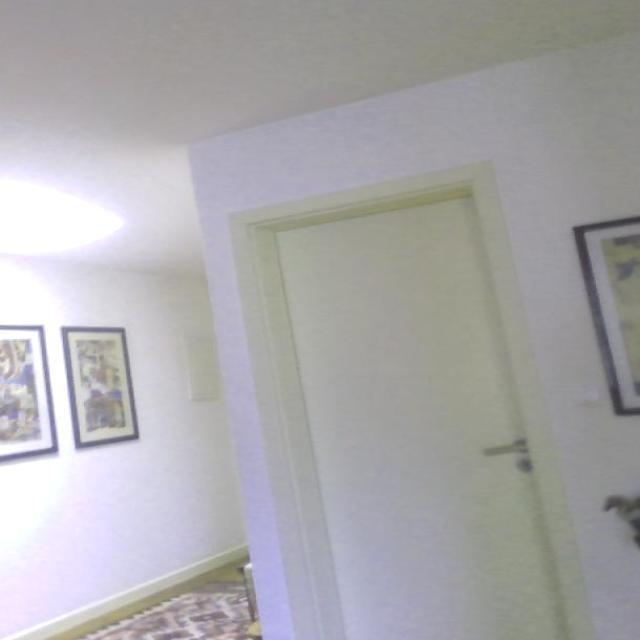door: (230, 162, 595, 638)
